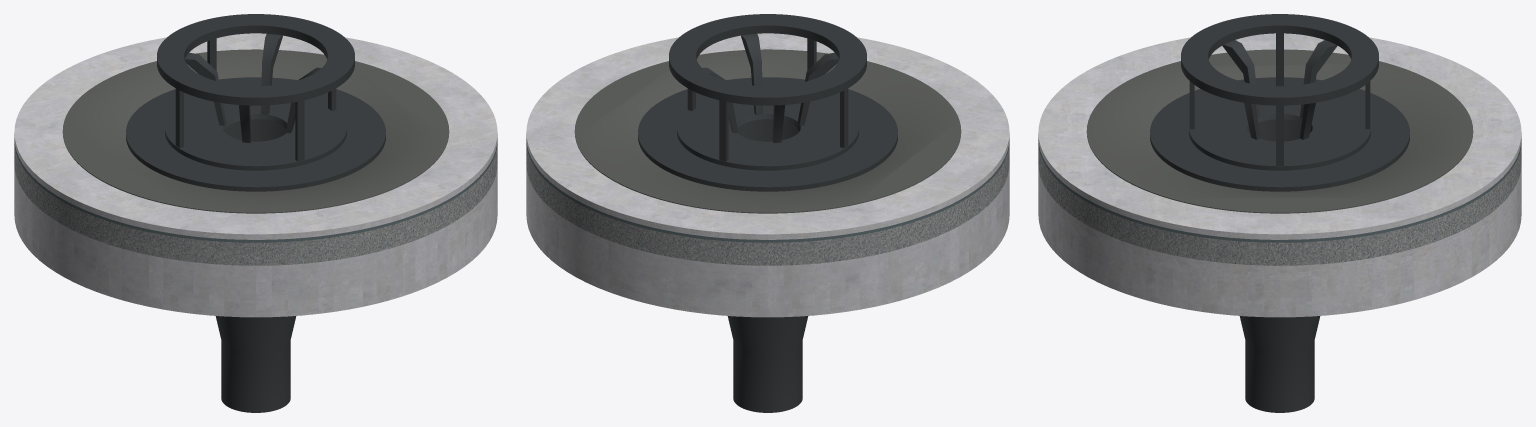
File: type-65.glb
3 views of the same model, side by side, from view 1: azimuth 30°, elevation 25°; view 2: azimuth 150°, elevation 25°; view 3: azimuth 270°, elevation 25° (orthographic).
Visible parts, largest first — view 1: 屋面面层, 钢筋混凝土屋面板, 油膏嵌缝, 65型铸铁进水罩, 铸铁水落口, 1：2.5水泥砂浆, 防水卷材; view 2: 屋面面层, 钢筋混凝土屋面板, 油膏嵌缝, 65型铸铁进水罩, 铸铁水落口, 1：2.5水泥砂浆, 防水卷材; view 3: 屋面面层, 钢筋混凝土屋面板, 油膏嵌缝, 65型铸铁进水罩, 铸铁水落口, 1：2.5水泥砂浆, 防水卷材.
Boxes of the visible parts, <box> form: 屋面面层: <box>14,33,497,239</box>; 钢筋混凝土屋面板: <box>14,165,497,317</box>; 油膏嵌缝: <box>62,49,449,213</box>; 65型铸铁进水罩: <box>157,14,354,170</box>; 铸铁水落口: <box>126,77,385,412</box>; 1：2.5水泥砂浆: <box>14,142,497,265</box>; 防水卷材: <box>14,139,497,242</box>; 屋面面层: <box>526,33,1009,239</box>; 钢筋混凝土屋面板: <box>526,165,1009,317</box>; 油膏嵌缝: <box>574,49,961,213</box>; 65型铸铁进水罩: <box>669,14,866,170</box>; 铸铁水落口: <box>638,77,897,412</box>; 1：2.5水泥砂浆: <box>526,142,1009,265</box>; 防水卷材: <box>526,139,1009,242</box>; 屋面面层: <box>1038,33,1521,239</box>; 钢筋混凝土屋面板: <box>1038,165,1521,317</box>; 油膏嵌缝: <box>1086,49,1473,213</box>; 65型铸铁进水罩: <box>1181,14,1378,170</box>; 铸铁水落口: <box>1150,77,1409,412</box>; 1：2.5水泥砂浆: <box>1038,142,1521,265</box>; 防水卷材: <box>1038,139,1521,242</box>.
Bounding box in the file's own units: 0.78 × 0.61 × 0.78.
6 materials, 3 textured.
